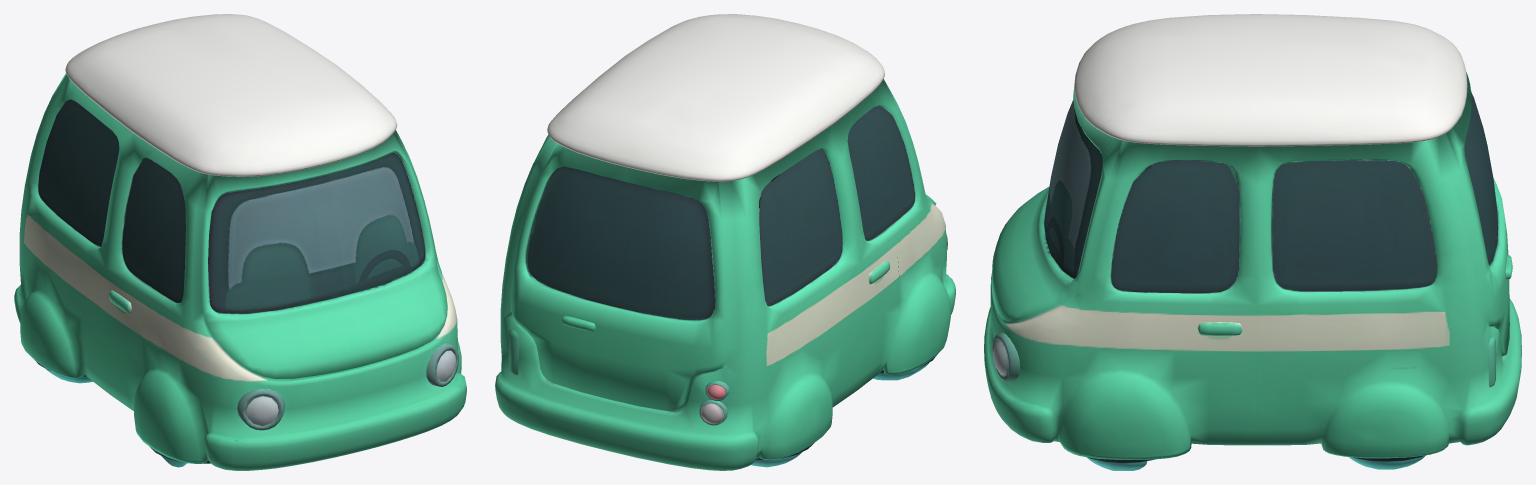
The model's file is car-nane.glb.
3 renders of one model, left to right at view 1: azimuth 30°, elevation 25°; view 2: azimuth 150°, elevation 25°; view 3: azimuth 270°, elevation 25°, orthographic. The views are drawn at different scales.
Visible parts, largest first — view 1: tripo_node_f9626049-ba4f-4fa9-9dce-ea84b2baaf46; view 2: tripo_node_f9626049-ba4f-4fa9-9dce-ea84b2baaf46; view 3: tripo_node_f9626049-ba4f-4fa9-9dce-ea84b2baaf46.
Part boxes in pixels (x1=…): tripo_node_f9626049-ba4f-4fa9-9dce-ea84b2baaf46: x1=14, y1=14, x2=466, y2=470; tripo_node_f9626049-ba4f-4fa9-9dce-ea84b2baaf46: x1=495, y1=14, x2=955, y2=470; tripo_node_f9626049-ba4f-4fa9-9dce-ea84b2baaf46: x1=984, y1=14, x2=1521, y2=470.
Bounding box in the file's own units: 0.7124 × 0.7466 × 0.9995.
Materials: 1 (1 with a texture image).
